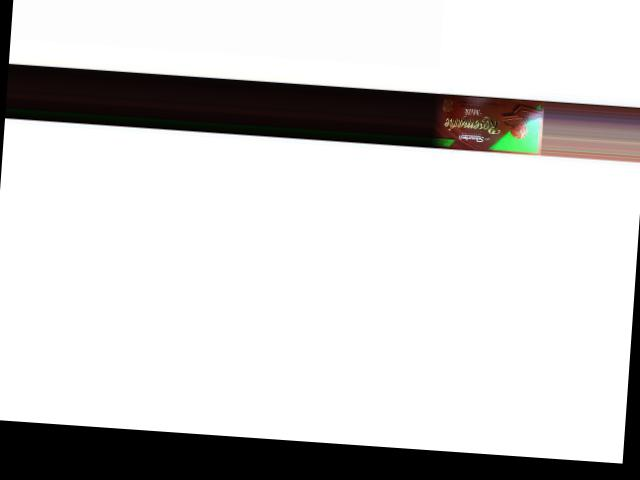chocolate: (429, 93, 543, 153)
